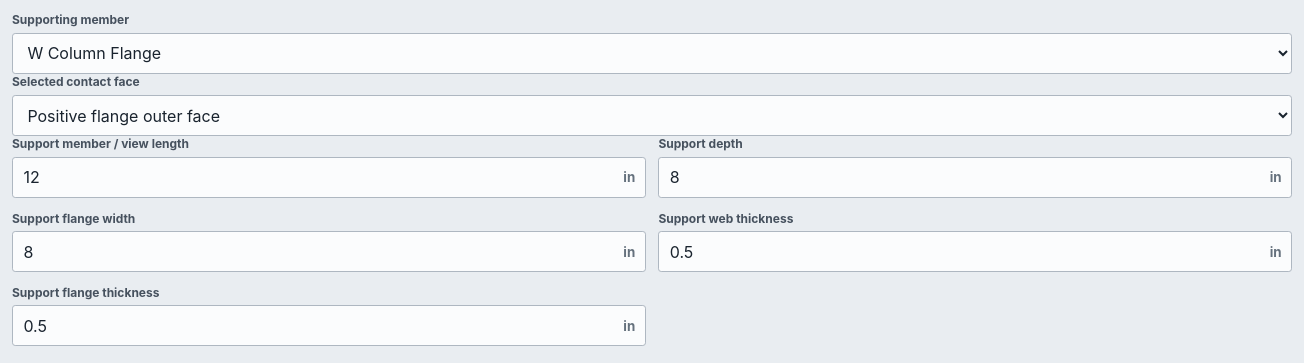
it: Stage 3.3C2 shared support and full-through presentation › uses one editor contract for target-specific dimensions, contact face, and angle roll
The width and height of the screenshot is (1304, 363).
Select "Angle Column Leg" in the dropdown labelled "Supporting member" at (652, 53), box top-left (12, 33), bottom-right (1292, 74)
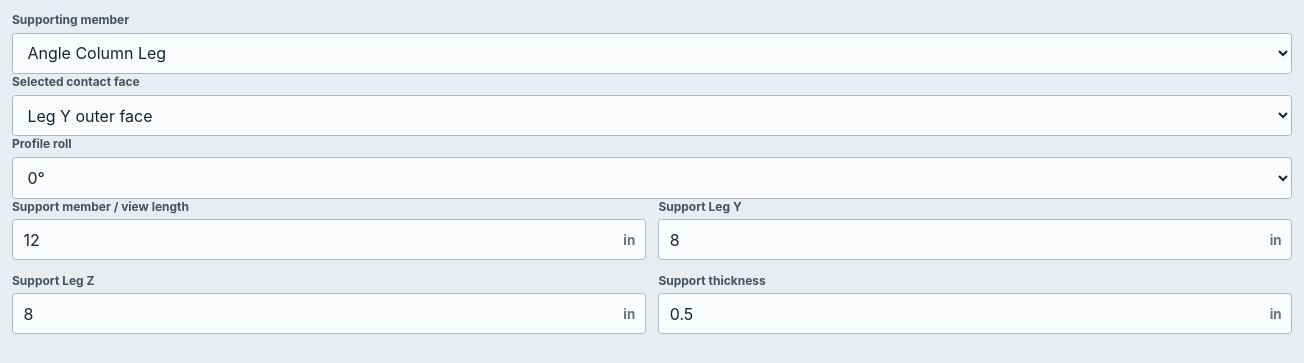
Result: the field labelled "Support Leg Y" is shown at top-left (658, 219), bottom-right (1292, 260)
Result: the field labelled "Support Leg Z" is shown at top-left (12, 293), bottom-right (646, 334)
Result: the dropdown named "Support profile roll" is shown at top-left (12, 157), bottom-right (1292, 199)
Select "Leg Z outer face" in the dropdown named "Support contact face" at (652, 116), box top-left (12, 95), bottom-right (1292, 136)
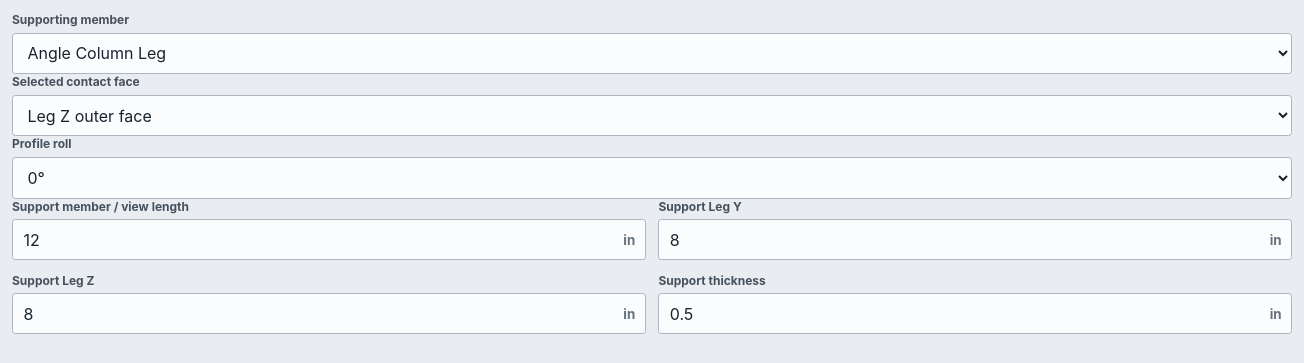
Select "180°" in the dropdown named "Support profile roll" at (652, 178), box top-left (12, 157), bottom-right (1292, 199)
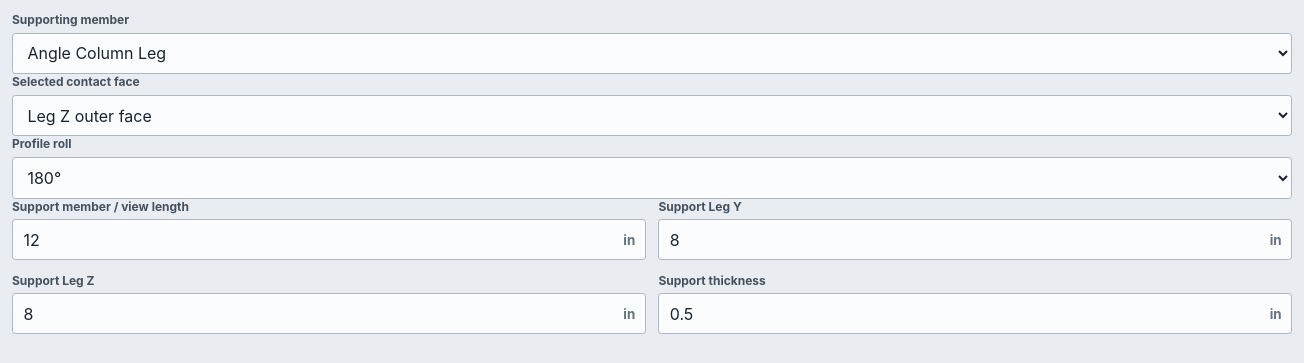
Select "Rectangular Hollow Column Wall" in the dropdown labelled "Supporting member" at (652, 53), box top-left (12, 33), bottom-right (1292, 74)
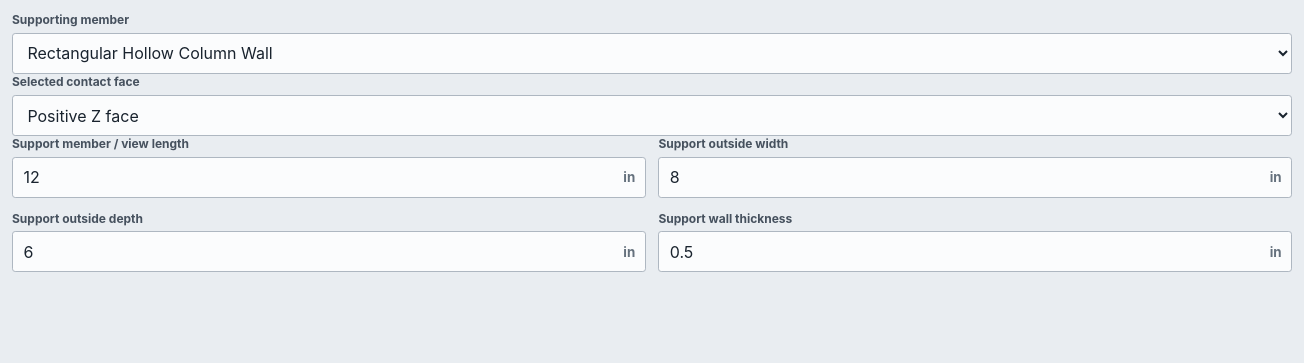
Result: the field labelled "Support outside width" is shown at top-left (658, 157), bottom-right (1292, 198)
Result: the field labelled "Support wall thickness" is shown at top-left (658, 231), bottom-right (1292, 272)
